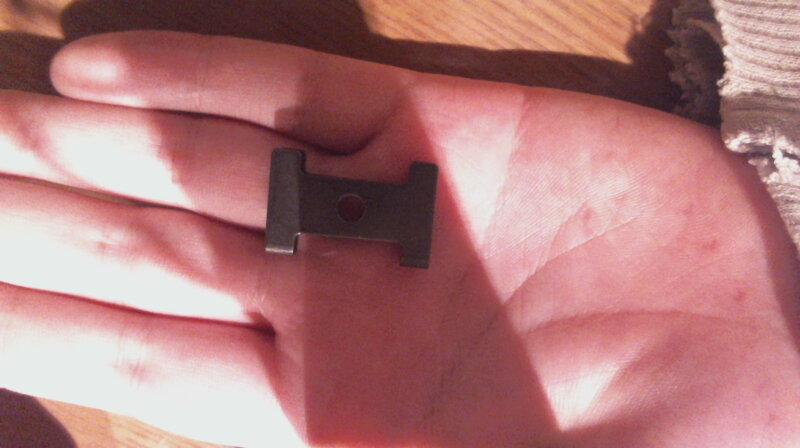O002: (262, 143, 442, 272)
